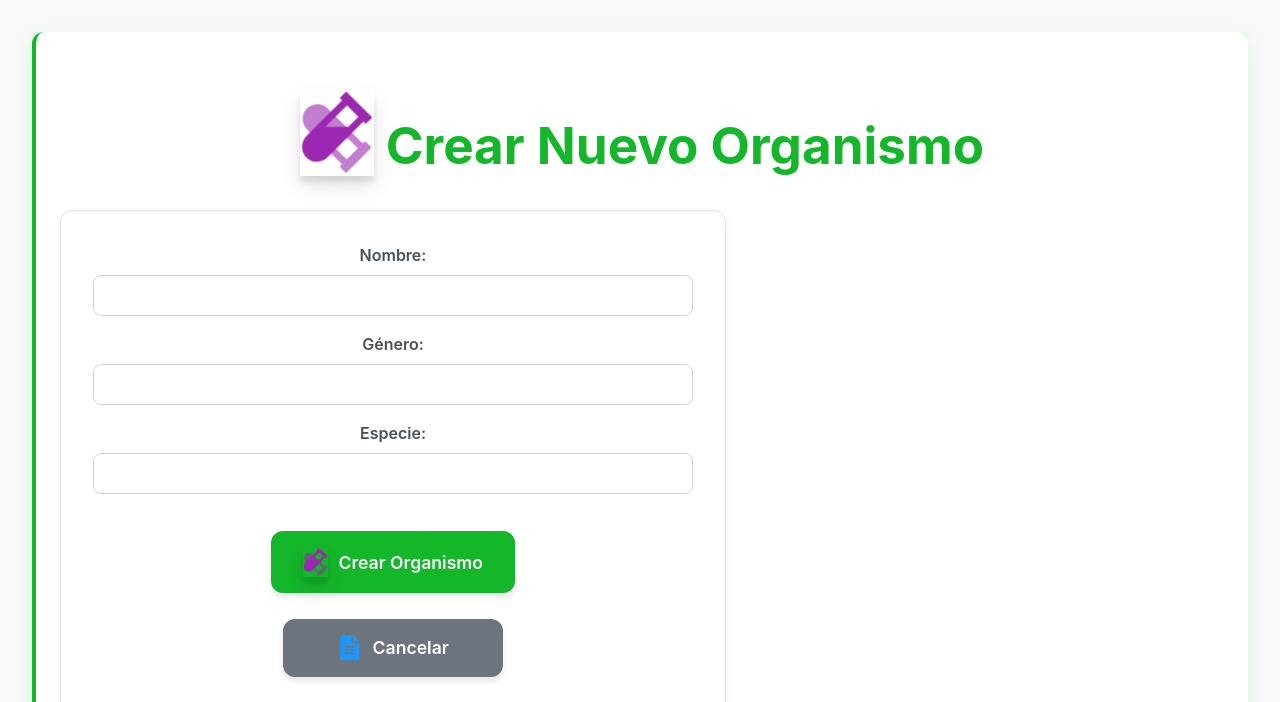
Test case: OrganismFormPage › should show error message when submission fails
The image size is (1280, 702).
# Rellenar el formulario
Step 1. Type "Saccharomyces cerevisiae" into the field labelled "Nombre:" → point(393, 295), box [93,275,693,316]
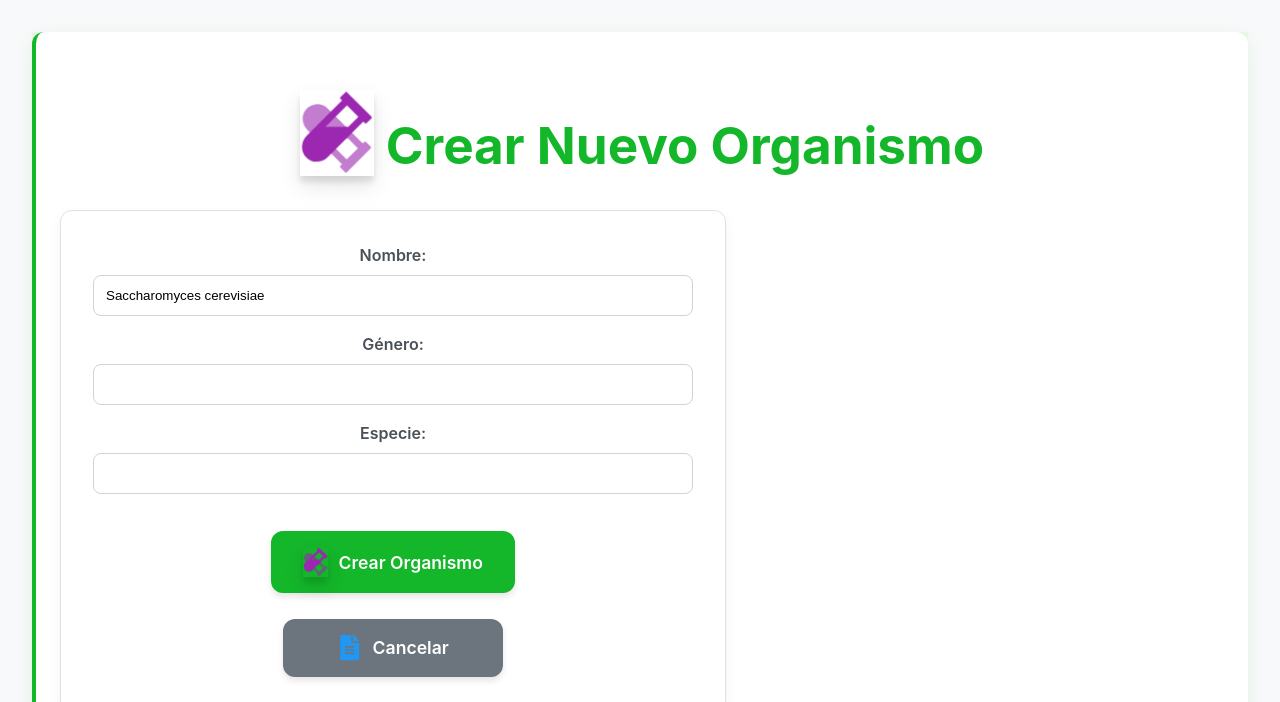
Step 2. Type "Saccharomyces" into the field labelled "Género:" → point(393, 384), box [93,364,693,405]
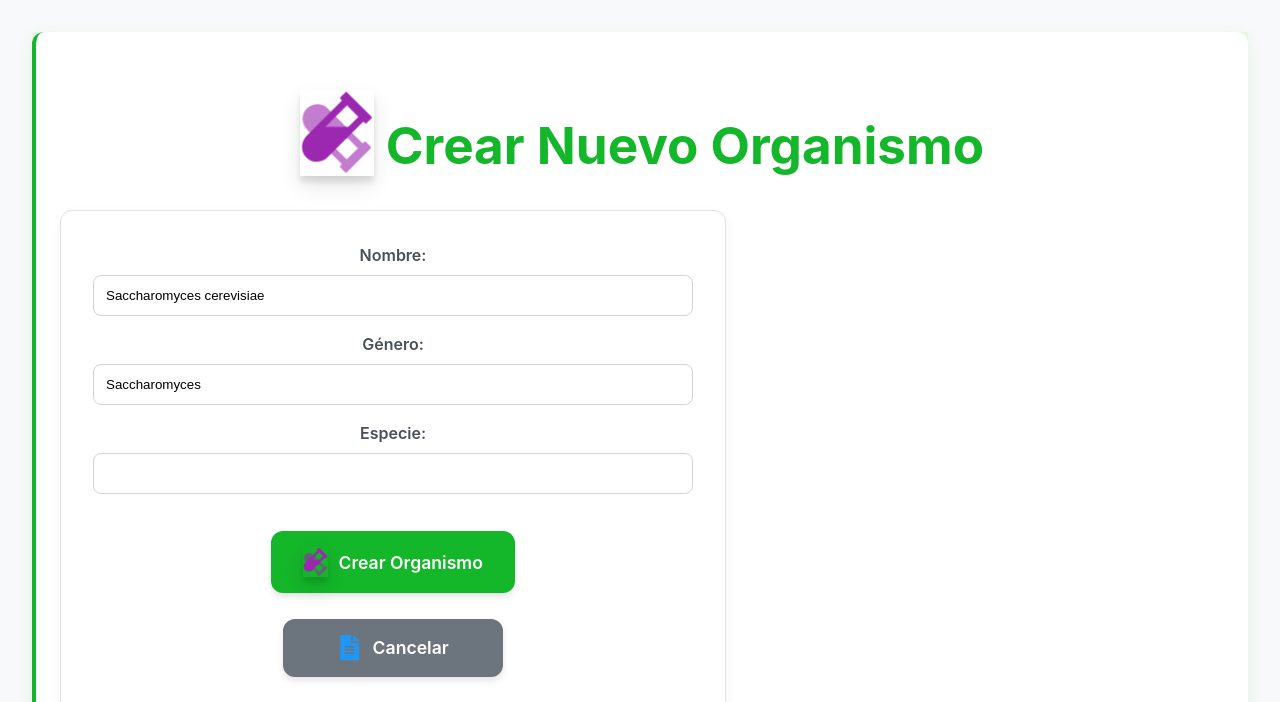
Step 3. Type "cerevisiae" into the field labelled "Especie:" → point(393, 473), box [93,453,693,494]
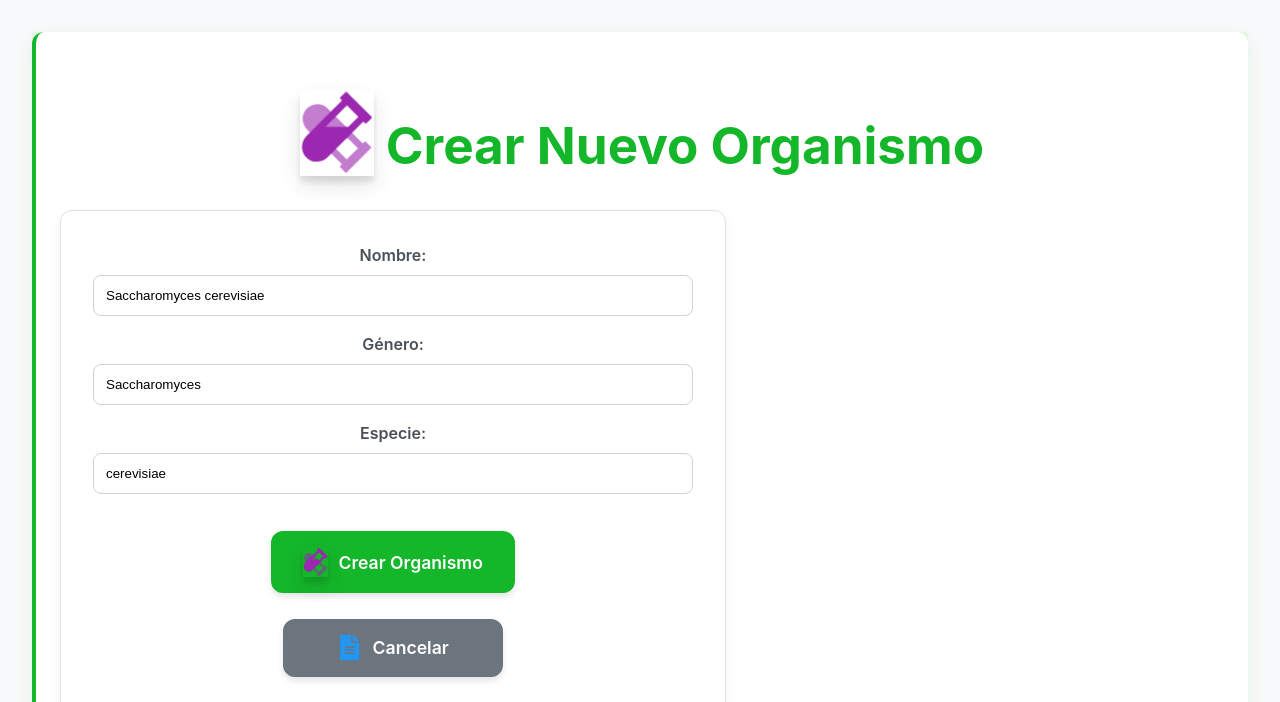
# Hacer click en el botón de submit
Step 4. Click the button "Crear Organismo" → point(393, 562), box [271,531,515,593]
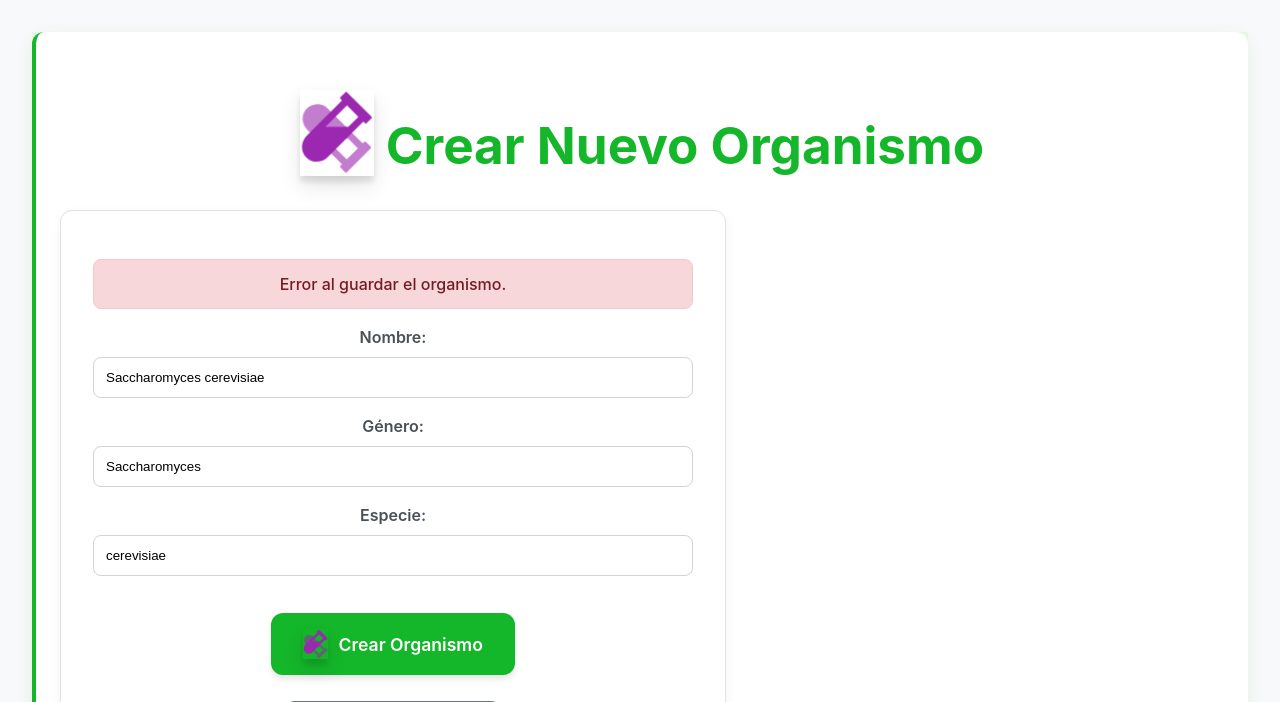
Check: the text "Error al guardar el organismo." is shown, box [93,259,693,309]
